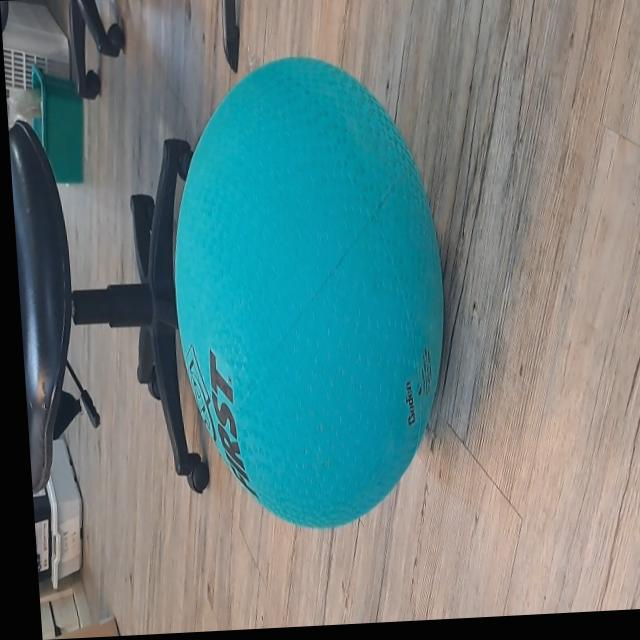ALGAE: (159, 48, 460, 538)
